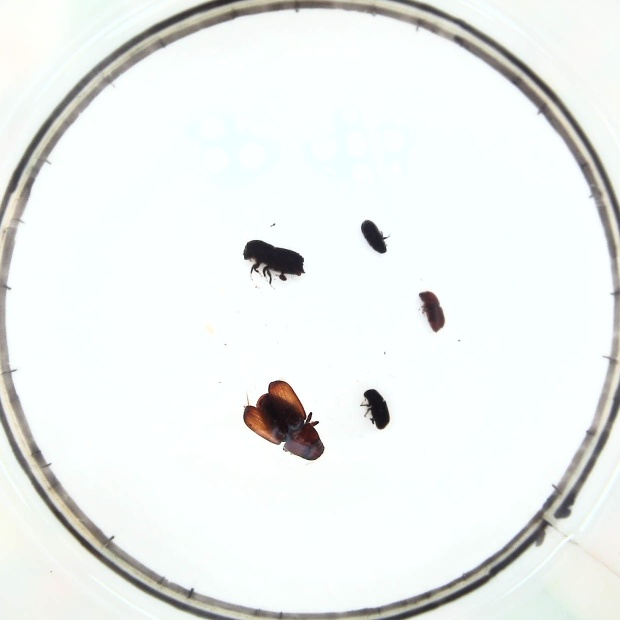armandi: (364, 387, 390, 431)
boerner: (241, 238, 304, 284)
coleoptera: (360, 217, 387, 255)
leconte: (243, 380, 324, 462)
linnaeus: (419, 290, 447, 331)
